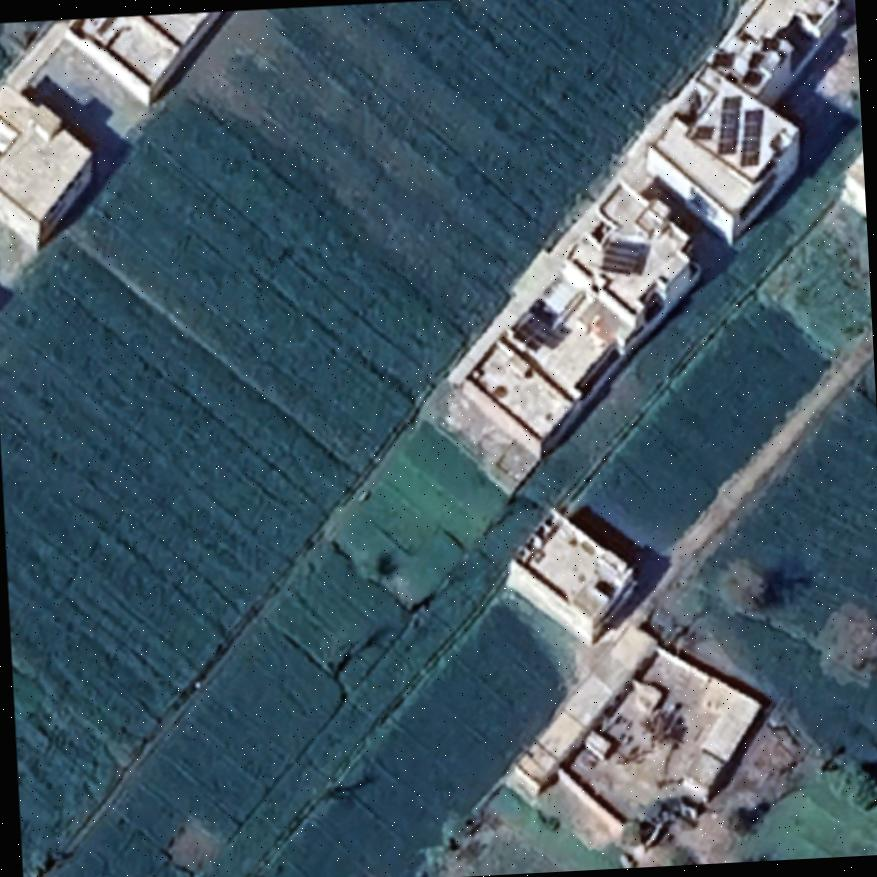Solarpanel: (509, 301, 572, 356), (598, 236, 648, 278), (714, 93, 744, 154), (737, 105, 766, 167)
